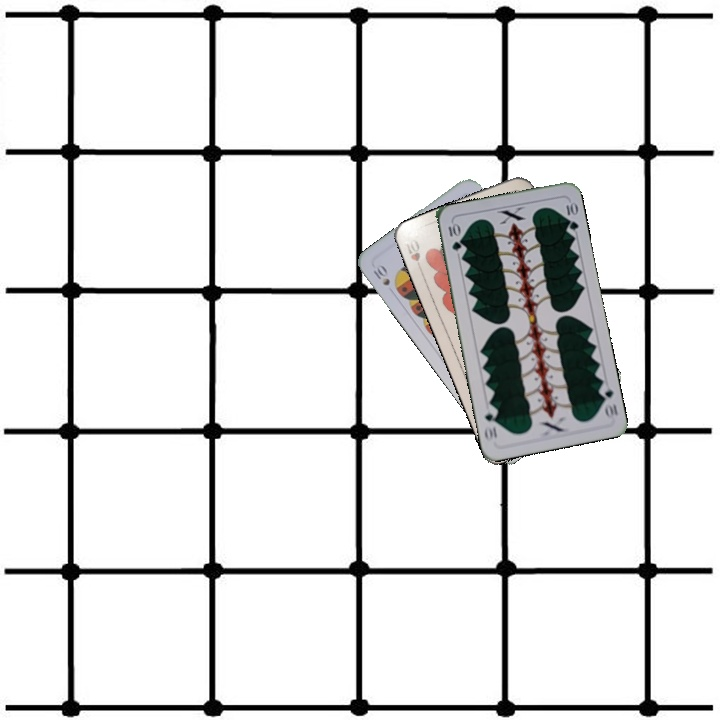G10: (595, 382, 620, 421), (444, 219, 464, 253)
H10: (400, 235, 425, 275)
S10: (369, 260, 393, 288)
